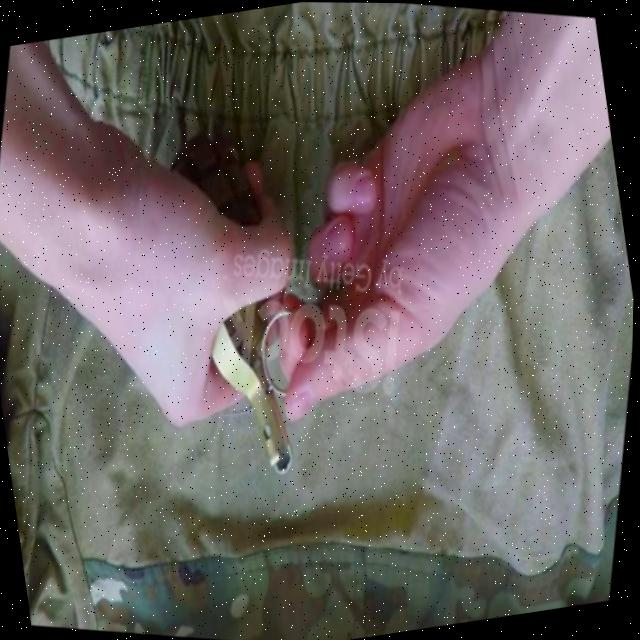grenade: (97, 112, 367, 495)
